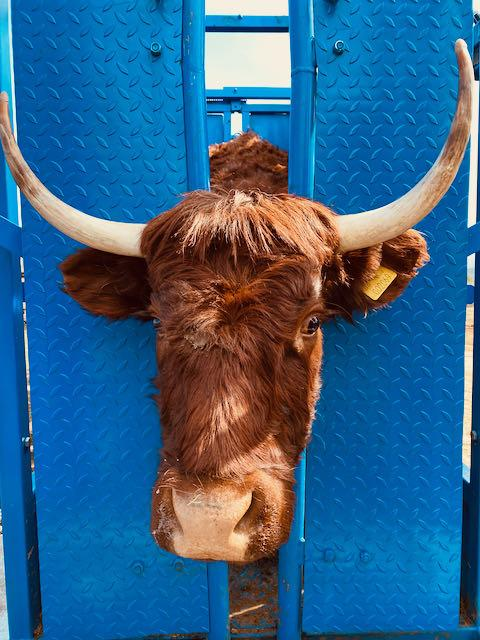muzzles: (138, 470, 296, 572)
